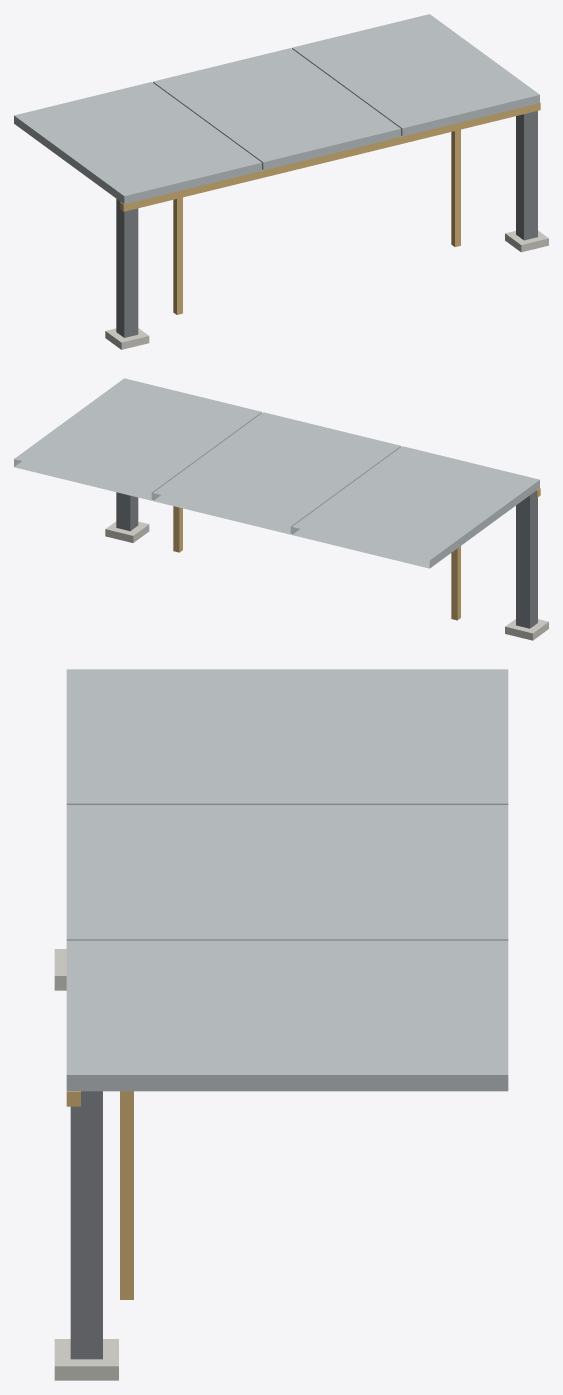
The model's file is lunar-5-5.glb.
The picture shows the model from 3 angles, top to bottom: view 1: azimuth 30°, elevation 25°; view 2: azimuth 150°, elevation 25°; view 3: azimuth 270°, elevation 25°; orthographic projection. The views are drawn at different scales.
Parts seen in each view (by area): view 1: lunar-5-5; view 2: lunar-5-5; view 3: lunar-5-5.
Part boxes in pixels (box(x1,y1,x2,y2)): lunar-5-5: box(14, 14, 548, 349); lunar-5-5: box(14, 378, 548, 640); lunar-5-5: box(54, 669, 508, 1380).
Size of the model in its own units: 49.2 by 16.5 by 22.6.
